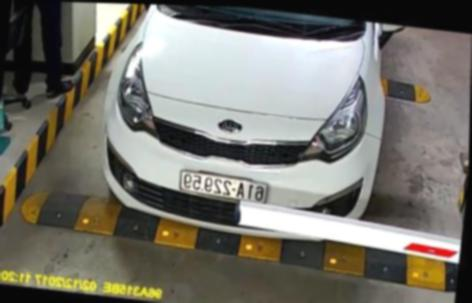License_Plate: (171, 166, 271, 207)
